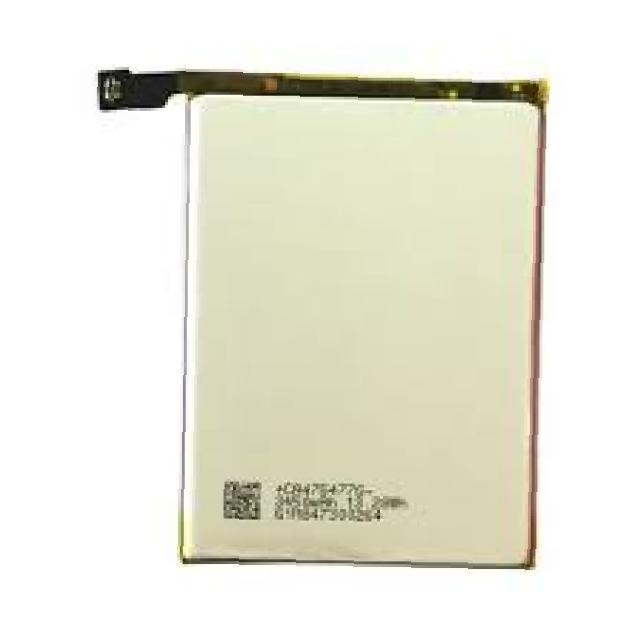Battery: (88, 49, 598, 587)
